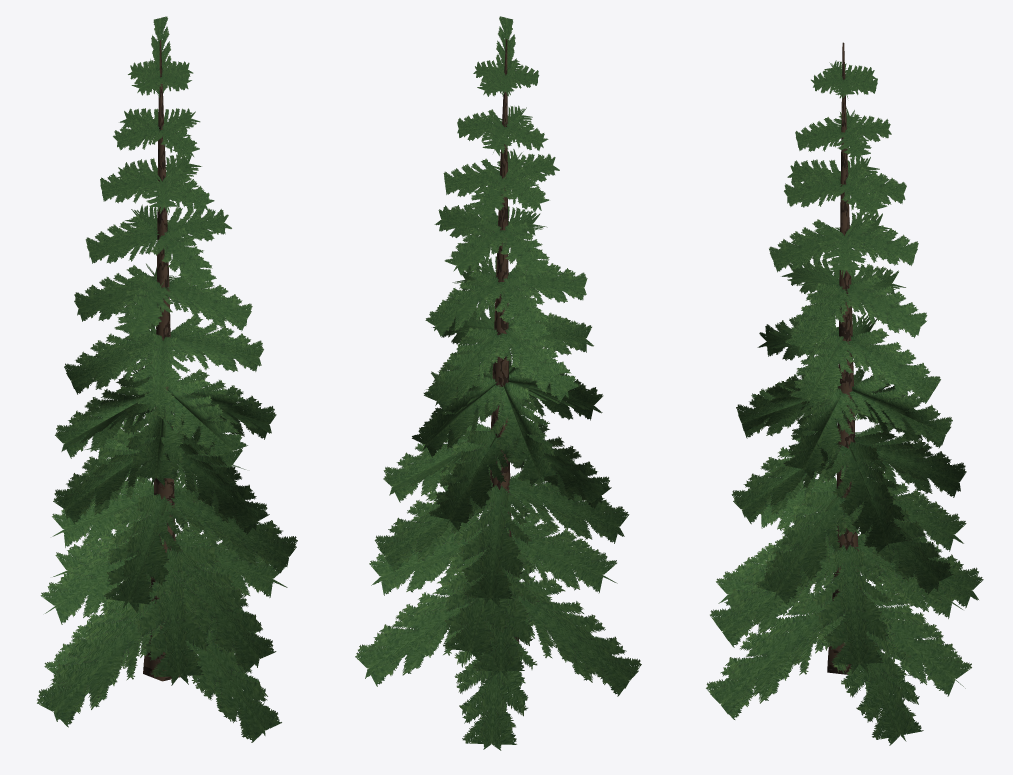
Rendered from spruce2_lod1.fbx.
3 renders of one model, left to right at view 1: azimuth 30°, elevation 25°; view 2: azimuth 150°, elevation 25°; view 3: azimuth 270°, elevation 25°, orthographic. The views are drawn at different scales.
Parts seen in each view (by area): view 1: spruce2_lod1; view 2: spruce2_lod1; view 3: spruce2_lod1.
Boxes of the visible parts, x1,y1,x2,y2 form: spruce2_lod1: [37, 16, 297, 742]; spruce2_lod1: [355, 16, 641, 750]; spruce2_lod1: [706, 42, 983, 745].
Bounding box in the file's own units: 6.92 × 16.79 × 6.72.
2 materials, 2 textured.
